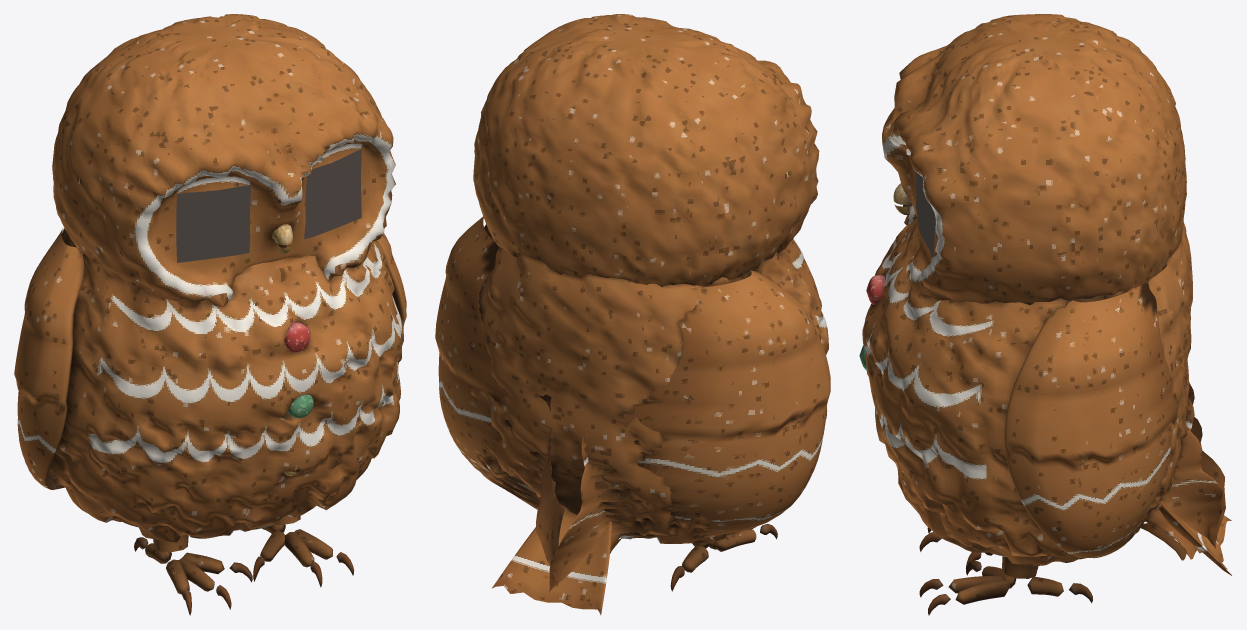
Rendered from gingerbread.glb.
3 renders of one model, left to right at view 1: azimuth 30°, elevation 25°; view 2: azimuth 150°, elevation 25°; view 3: azimuth 270°, elevation 25°, orthographic. The views are drawn at different scales.
Parts seen in each view (by area): view 1: body_mesh, head_mesh, wing_l_mesh, eye_l, eye_r, wing_r_mesh, btn0_mesh, leg_rt1_mesh, leg_lt1_mesh, leg_rt0_mesh; view 2: head_mesh, body_mesh, wing_l_mesh, wing_r_mesh, tail_mesh, leg_lt0_mesh; view 3: head_mesh, body_mesh, wing_r_mesh, tail_mesh, wing_l_mesh, eye_r, leg_rt0_mesh, leg_rt3_mesh, leg_r_mesh, leg_rt1_mesh.
Boxes of the visible parts, <box> form: body_mesh: <box>49,228,403,542</box>; head_mesh: <box>52,14,395,307</box>; wing_l_mesh: <box>14,228,84,489</box>; eye_l: <box>176,185,250,262</box>; eye_r: <box>304,149,361,239</box>; wing_r_mesh: <box>376,233,406,364</box>; btn0_mesh: <box>284,321,310,352</box>; leg_rt1_mesh: <box>284,532,314,567</box>; leg_lt1_mesh: <box>179,558,214,591</box>; leg_rt0_mesh: <box>294,529,332,559</box>; head_mesh: <box>473,14,819,286</box>; body_mesh: <box>471,224,828,543</box>; wing_l_mesh: <box>549,271,830,592</box>; wing_r_mesh: <box>435,216,564,586</box>; tail_mesh: <box>492,507,612,615</box>; leg_lt0_mesh: <box>714,529,756,551</box>; head_mesh: <box>882,14,1186,304</box>; body_mesh: <box>862,217,1192,565</box>; wing_r_mesh: <box>1004,282,1223,560</box>; tail_mesh: <box>1159,501,1231,575</box>; wing_l_mesh: <box>1188,382,1225,548</box>; eye_r: <box>915,172,934,255</box>; leg_rt0_mesh: <box>955,579,1010,604</box>; leg_rt3_mesh: <box>1027,576,1063,596</box>; leg_r_mesh: <box>1002,556,1038,578</box>; leg_rt1_mesh: <box>948,575,1009,593</box>.
Size of the model in its own units: 30.71 by 40.87 by 25.88.
2 materials, 1 textured.
